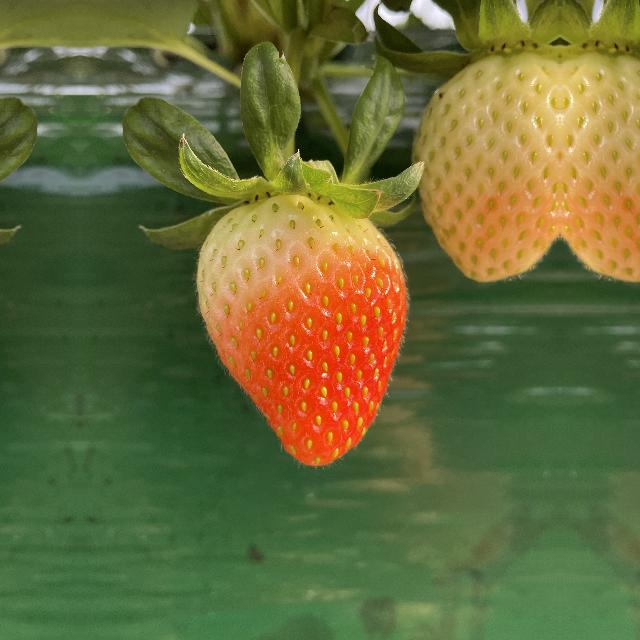Health_50: (412, 44, 560, 282), (560, 44, 640, 282)
Health_75: (188, 192, 414, 464)
